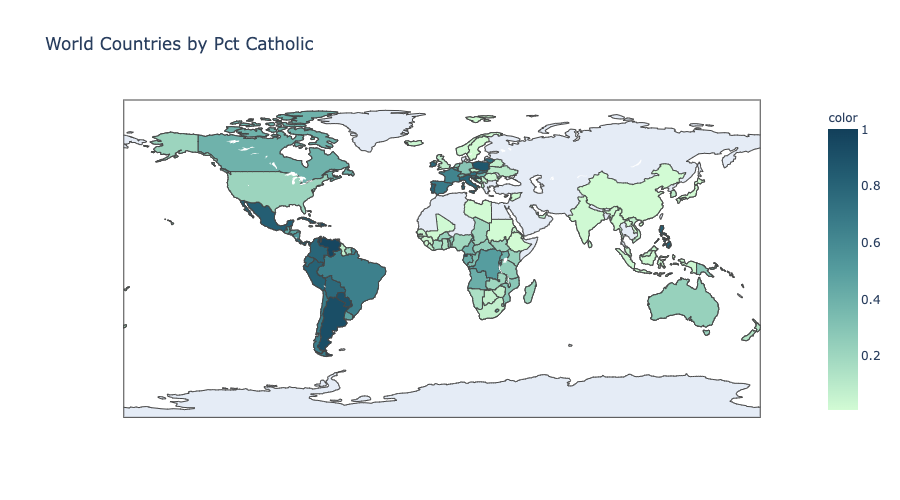

The dashboard page shown, as its layout file describes it:
{"tool":"tableau","page":{"name":"Dashboard 2","canvas":[650,860],"ordinal":1},"visuals":[{"type":"worksheet","title":"Sheet 3","mark":"Multipolygon","box":[8,9.8,474,840.3]},{"type":"legend","title":"Sheet 3","param":"[federated.18ai2ps00hkj1114wkhbp0jn7sxn].[none:CONTINENT:nk]","box":[482,9.8,160,253.4]}]}

Visuals, with their boxes on the page's 650x860 design canvas (x1, y1, x2, y2). These are canvas units, not pixel positions in the 900x500 screenshot, which may show the page scaled, cropped or inside an application window:
"Sheet 3" worksheet (Multipolygon marks): 8/10/482/850
"Sheet 3" legend: 482/10/642/263
